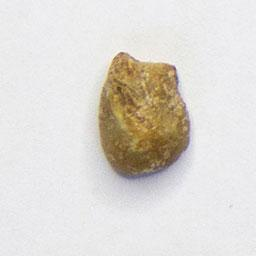defect: (97, 51, 193, 179)
